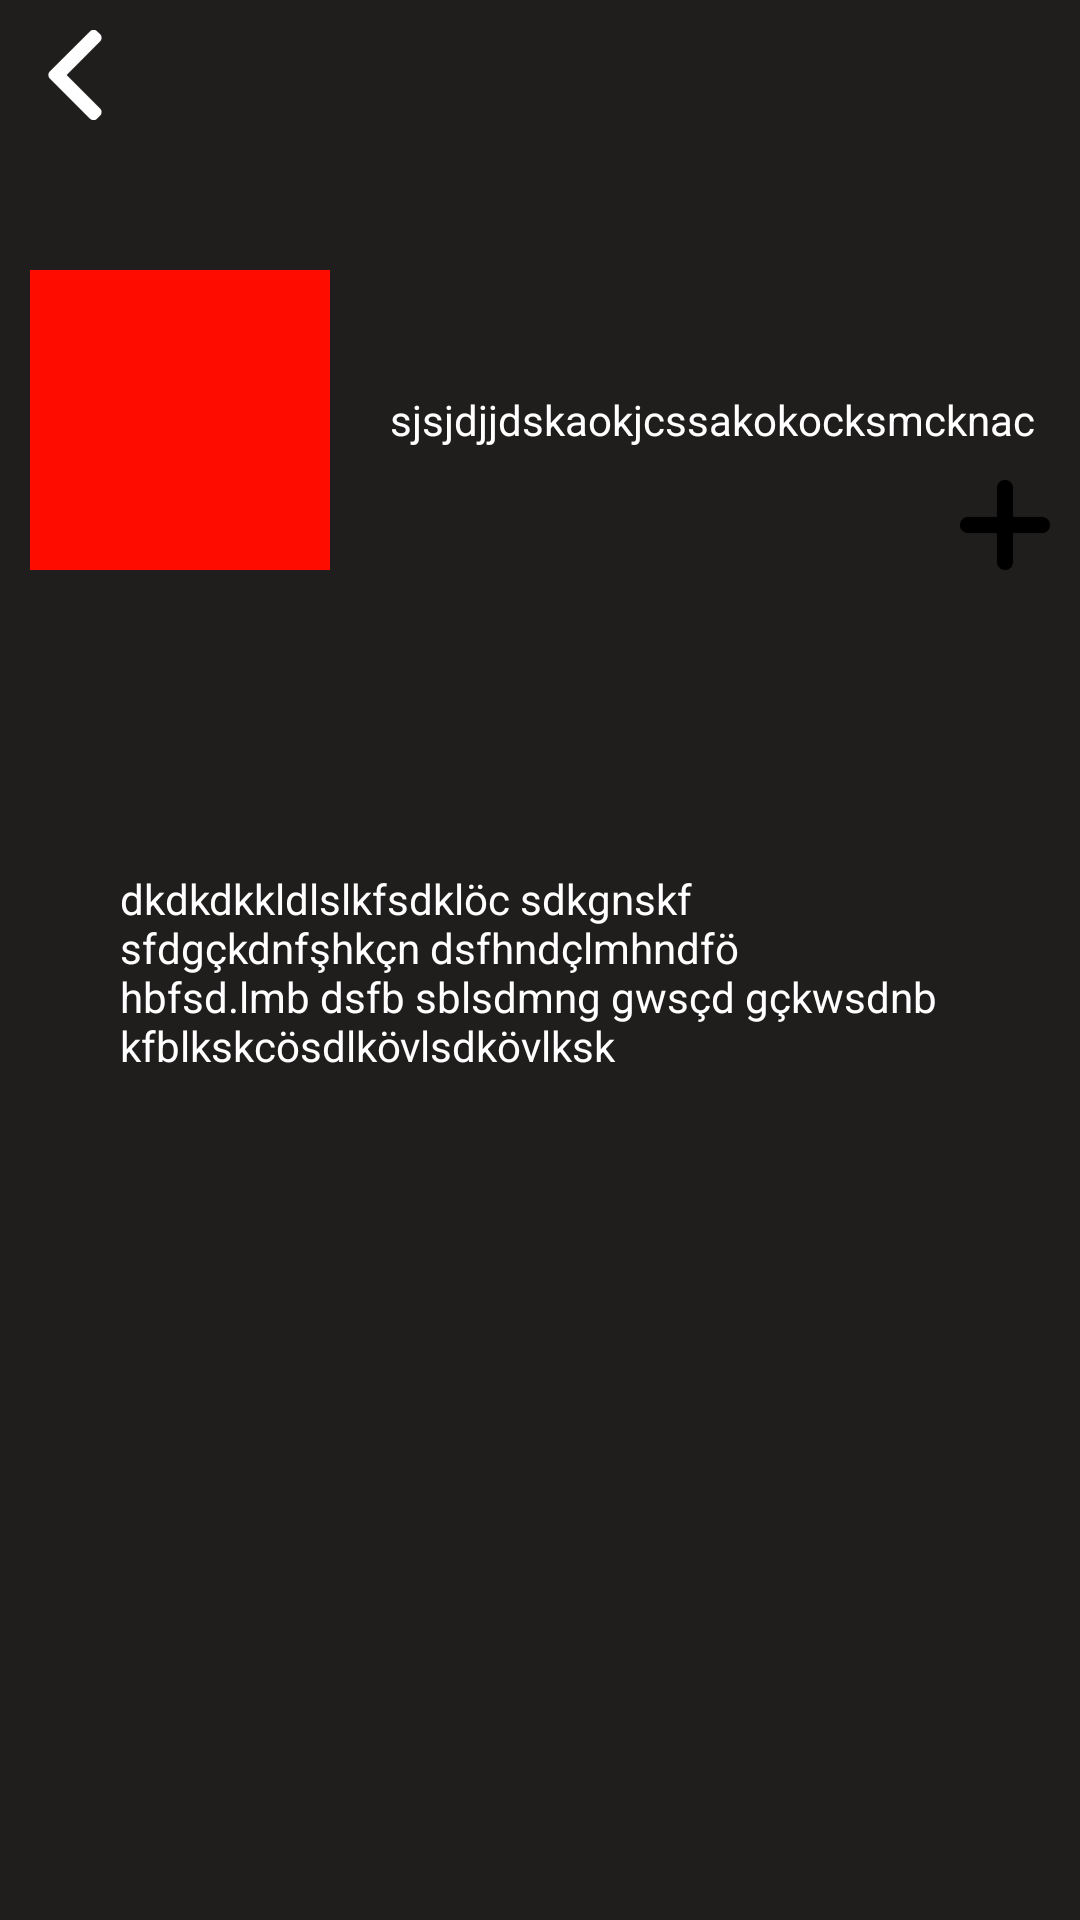

Named icons in this screenshot (1080w x 1920h) and their bounding boxes, (x1, y1, x2, y2):
back: (48, 30, 102, 120)
plus: (960, 480, 1050, 570)
